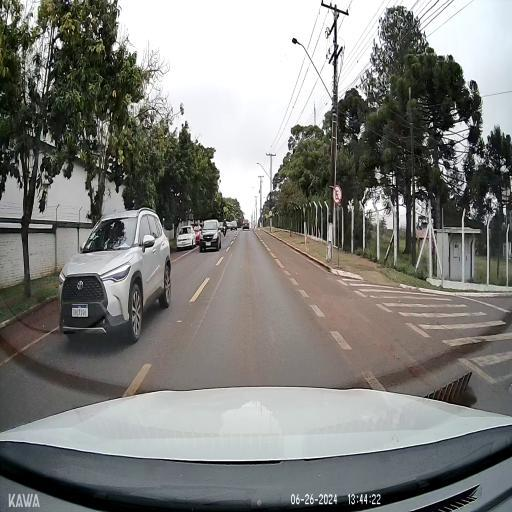R-6a: (332, 184, 342, 204)
